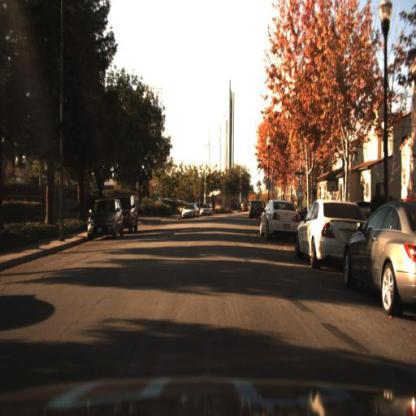car: (343, 202, 416, 320), (294, 191, 349, 269), (84, 193, 124, 243), (258, 198, 301, 242), (259, 201, 301, 244), (86, 197, 124, 243), (347, 193, 381, 225), (119, 193, 140, 240), (125, 195, 143, 236), (248, 193, 264, 229), (248, 198, 267, 224), (181, 199, 199, 220), (200, 201, 217, 222)
